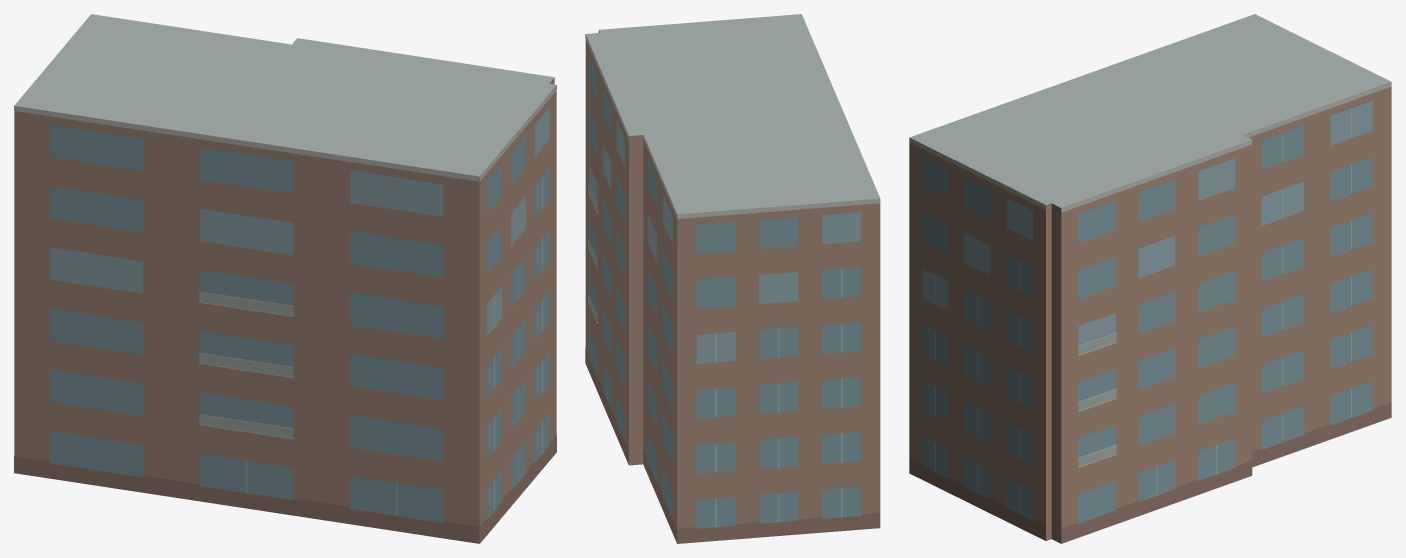
The model's file is survey-upis-32753920.glb.
The picture shows the model from 3 angles, left to right: view 1: azimuth 30°, elevation 25°; view 2: azimuth 150°, elevation 25°; view 3: azimuth 270°, elevation 25°; orthographic projection. The views are drawn at different scales.
Visible parts, largest first — view 1: survey-upis-32753920.tmp; view 2: survey-upis-32753920.tmp; view 3: survey-upis-32753920.tmp.
Boxes of the visible parts, bbox=[...] form: survey-upis-32753920.tmp: bbox=[14, 14, 556, 543]; survey-upis-32753920.tmp: bbox=[585, 14, 880, 543]; survey-upis-32753920.tmp: bbox=[909, 14, 1391, 543].
Size of the model in its own units: 21.31 by 17.2 by 22.39.
